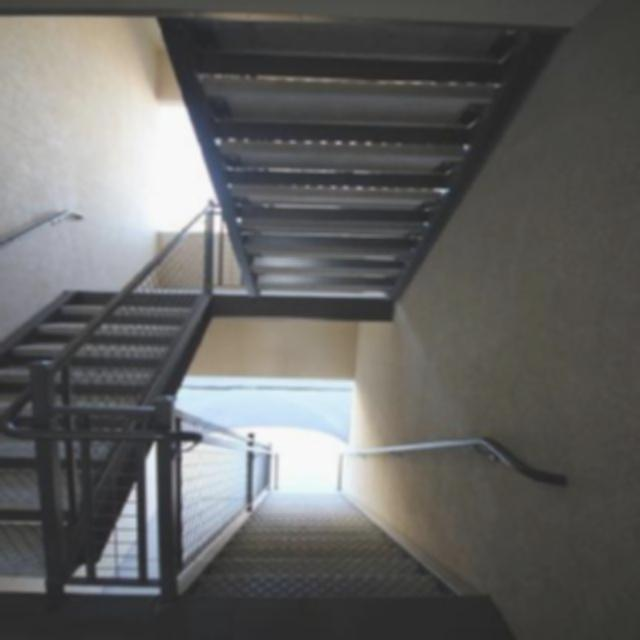stair: (4, 49, 518, 620)
